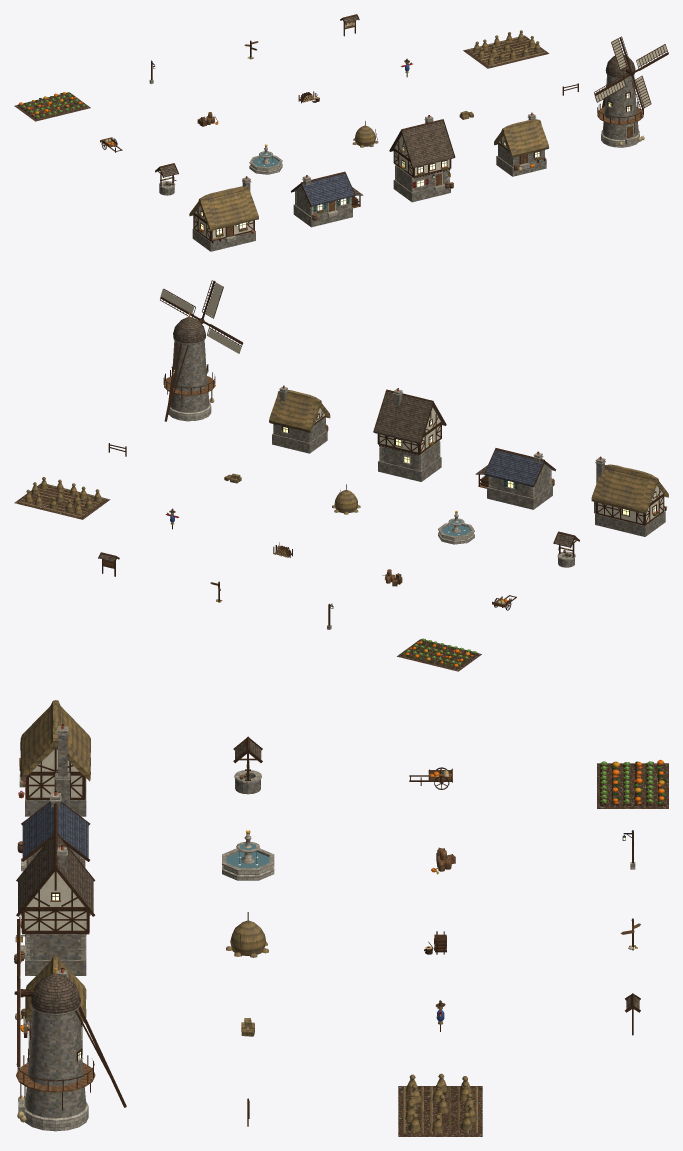
File: vp-kit.glb
3 views of the same model, one above another, from view 1: azimuth 30°, elevation 25°; view 2: azimuth 150°, elevation 25°; view 3: azimuth 270°, elevation 25° (orthographic). The views are drawn at different scales.
Visible parts, largest first — view 1: vp_cottage_c, vp_cottage_a, vp_cottage_b, vp_windmill, vp_cottage_d, vp_field_wheat, windmill_blades, vp_field_veg, vp_fountain, vp_well, vp_haystack; view 2: vp_cottage_c, vp_cottage_a, vp_windmill, vp_cottage_b, vp_cottage_d, vp_field_wheat, vp_field_veg, windmill_blades, vp_fountain, vp_well; view 3: vp_windmill, vp_cottage_c, vp_cottage_a, vp_field_wheat, vp_field_veg, vp_cottage_b, vp_fountain, vp_cottage_d, vp_well, vp_haystack, windmill_blades.
Part boxes in pixels (box(x1,y1,x2,y2)): vp_cottage_c: box(389, 115, 455, 202); vp_cottage_a: box(189, 176, 258, 251); vp_cottage_b: box(291, 171, 363, 227); vp_windmill: box(597, 55, 644, 147); vp_cottage_d: box(494, 112, 549, 176); vp_field_wheat: box(463, 30, 549, 68); windmill_blades: box(594, 36, 668, 109); vp_field_veg: box(14, 92, 90, 121); vp_fountain: box(249, 144, 282, 174); vp_well: box(155, 163, 178, 195); vp_haystack: box(352, 121, 378, 147); vp_cottage_c: box(373, 388, 446, 481); vp_cottage_a: box(591, 456, 668, 536); vp_windmill: box(163, 313, 215, 421); vp_cottage_b: box(475, 448, 555, 509); vp_cottage_d: box(269, 385, 330, 453); vp_field_wheat: box(14, 477, 110, 519); vp_field_veg: box(397, 638, 481, 671); windmill_blades: box(160, 280, 243, 353); vp_fountain: box(438, 511, 474, 544); vp_well: box(553, 531, 579, 567); vp_windmill: box(16, 968, 126, 1131); vp_cottage_c: box(14, 830, 95, 975); vp_cottage_a: box(18, 700, 90, 816); vp_field_wheat: box(398, 1073, 482, 1136); vp_field_veg: box(597, 759, 668, 808); vp_cottage_b: box(17, 791, 90, 871); vp_fountain: box(222, 830, 274, 880); vp_cottage_d: box(15, 955, 86, 1054); vp_well: box(233, 736, 262, 794); vp_haystack: box(226, 912, 268, 957); windmill_blades: box(14, 916, 23, 1069).
Bounding box in the file's own units: 74.54 × 18.04 × 54.47.
Materials: 12 (10 with a texture image).
